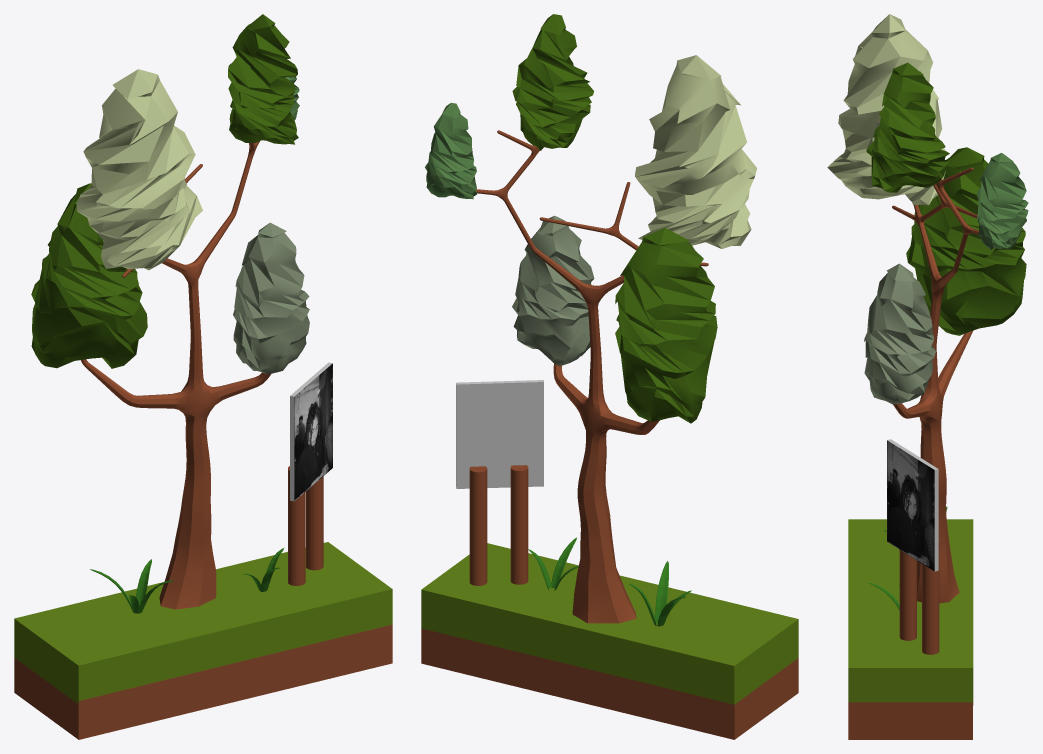
The picture shows the model from 3 angles, left to right: view 1: azimuth 30°, elevation 25°; view 2: azimuth 150°, elevation 25°; view 3: azimuth 270°, elevation 25°; orthographic projection. The views are drawn at different scales.
Parts seen in each view (by area): view 1: Cube.001_Ground, Tree.013_Dark_moss_green, Tree.013_Laurel_green, Cube.002_Box, Tree.013_Box.001, Tree.013_Camouflage_green, Cube_me, Cylinder.001_Box, Cylinder_Box, Grass.008_Bush, Cube_Material; view 2: Cube.001_Ground, Tree.013_Dark_moss_green, Tree.013_Laurel_green, Cube.002_Box, Tree.013_Box.001, Cube_Material, Tree.013_Camouflage_green, Tree.013_Fern_green, Cylinder_Box, Cylinder.001_Box, Grass.008_Bush, Grass.009_Bush; view 3: Tree.013_Dark_moss_green, Cube.001_Ground, Tree.013_Laurel_green, Tree.013_Camouflage_green, Tree.013_Box.001, Cube_me, Cube.002_Box, Tree.013_Fern_green, Cylinder_Box, Cylinder.001_Box, Cube_Material.
Boxes of the visible parts, <box> form: Cube.001_Ground: <box>14,542,392,704</box>; Tree.013_Dark_moss_green: <box>31,14,298,368</box>; Tree.013_Laurel_green: <box>76,69,202,270</box>; Cube.002_Box: <box>14,624,392,739</box>; Tree.013_Box.001: <box>80,141,270,609</box>; Tree.013_Camouflage_green: <box>233,222,309,374</box>; Cube_me: <box>294,363,332,500</box>; Cylinder.001_Box: <box>288,466,305,585</box>; Cylinder_Box: <box>306,476,323,570</box>; Grass.008_Bush: <box>90,559,173,613</box>; Cube_Material: <box>290,362,332,501</box>; Cube.001_Ground: <box>421,543,798,704</box>; Tree.013_Dark_moss_green: <box>512,14,717,423</box>; Tree.013_Laurel_green: <box>635,55,756,248</box>; Cube.002_Box: <box>421,628,798,739</box>; Tree.013_Box.001: <box>476,130,708,623</box>; Cube_Material: <box>456,380,543,488</box>; Tree.013_Camouflage_green: <box>512,215,598,366</box>; Tree.013_Fern_green: <box>425,102,476,199</box>; Cylinder_Box: <box>469,466,487,585</box>; Cylinder.001_Box: <box>510,465,528,584</box>; Grass.008_Bush: <box>629,561,691,626</box>; Grass.009_Bush: <box>528,537,578,590</box>; Tree.013_Dark_moss_green: <box>866,62,1026,335</box>; Cube.001_Ground: <box>848,519,973,705</box>; Tree.013_Laurel_green: <box>827,14,945,205</box>; Tree.013_Camouflage_green: <box>864,263,935,404</box>; Tree.013_Box.001: <box>892,167,978,603</box>; Cube_me: <box>887,440,934,571</box>; Cube.002_Box: <box>848,702,972,739</box>; Tree.013_Fern_green: <box>977,153,1028,249</box>; Cylinder_Box: <box>922,540,939,654</box>; Cylinder.001_Box: <box>899,550,916,640</box>; Cube_Material: <box>887,439,938,571</box>.
Bounding box in the file's own units: 5.21 × 10.32 × 2.99.
10 materials, 1 textured.
